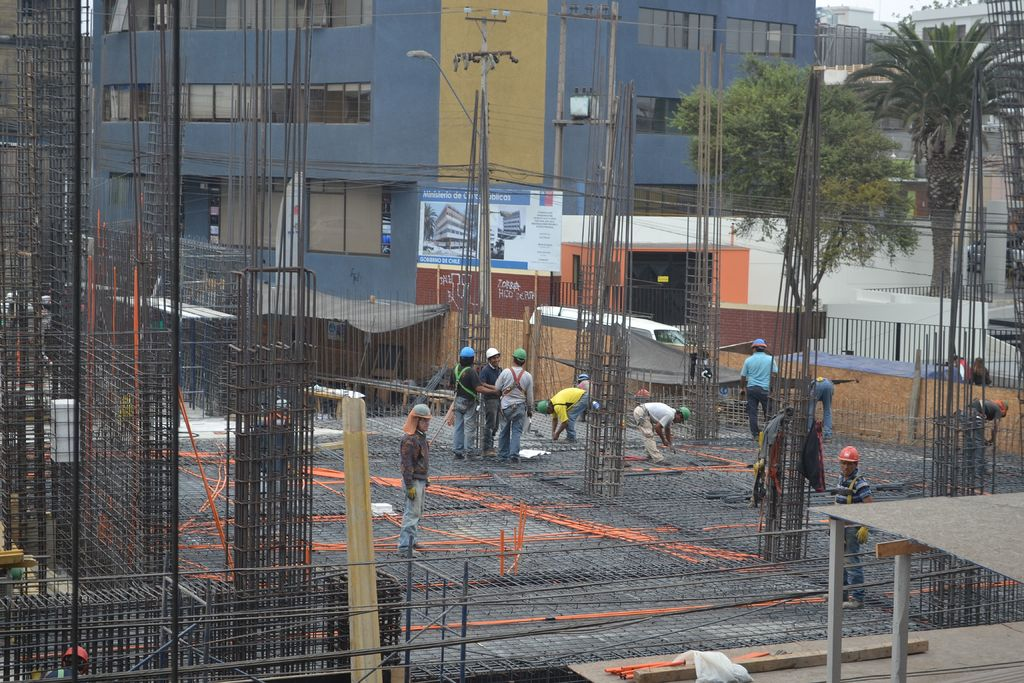Person: (453, 335, 873, 609), (444, 341, 597, 462), (824, 446, 871, 602), (392, 400, 431, 555), (953, 396, 1013, 472), (741, 335, 776, 441), (634, 399, 691, 460), (799, 369, 834, 436), (49, 646, 82, 679)
